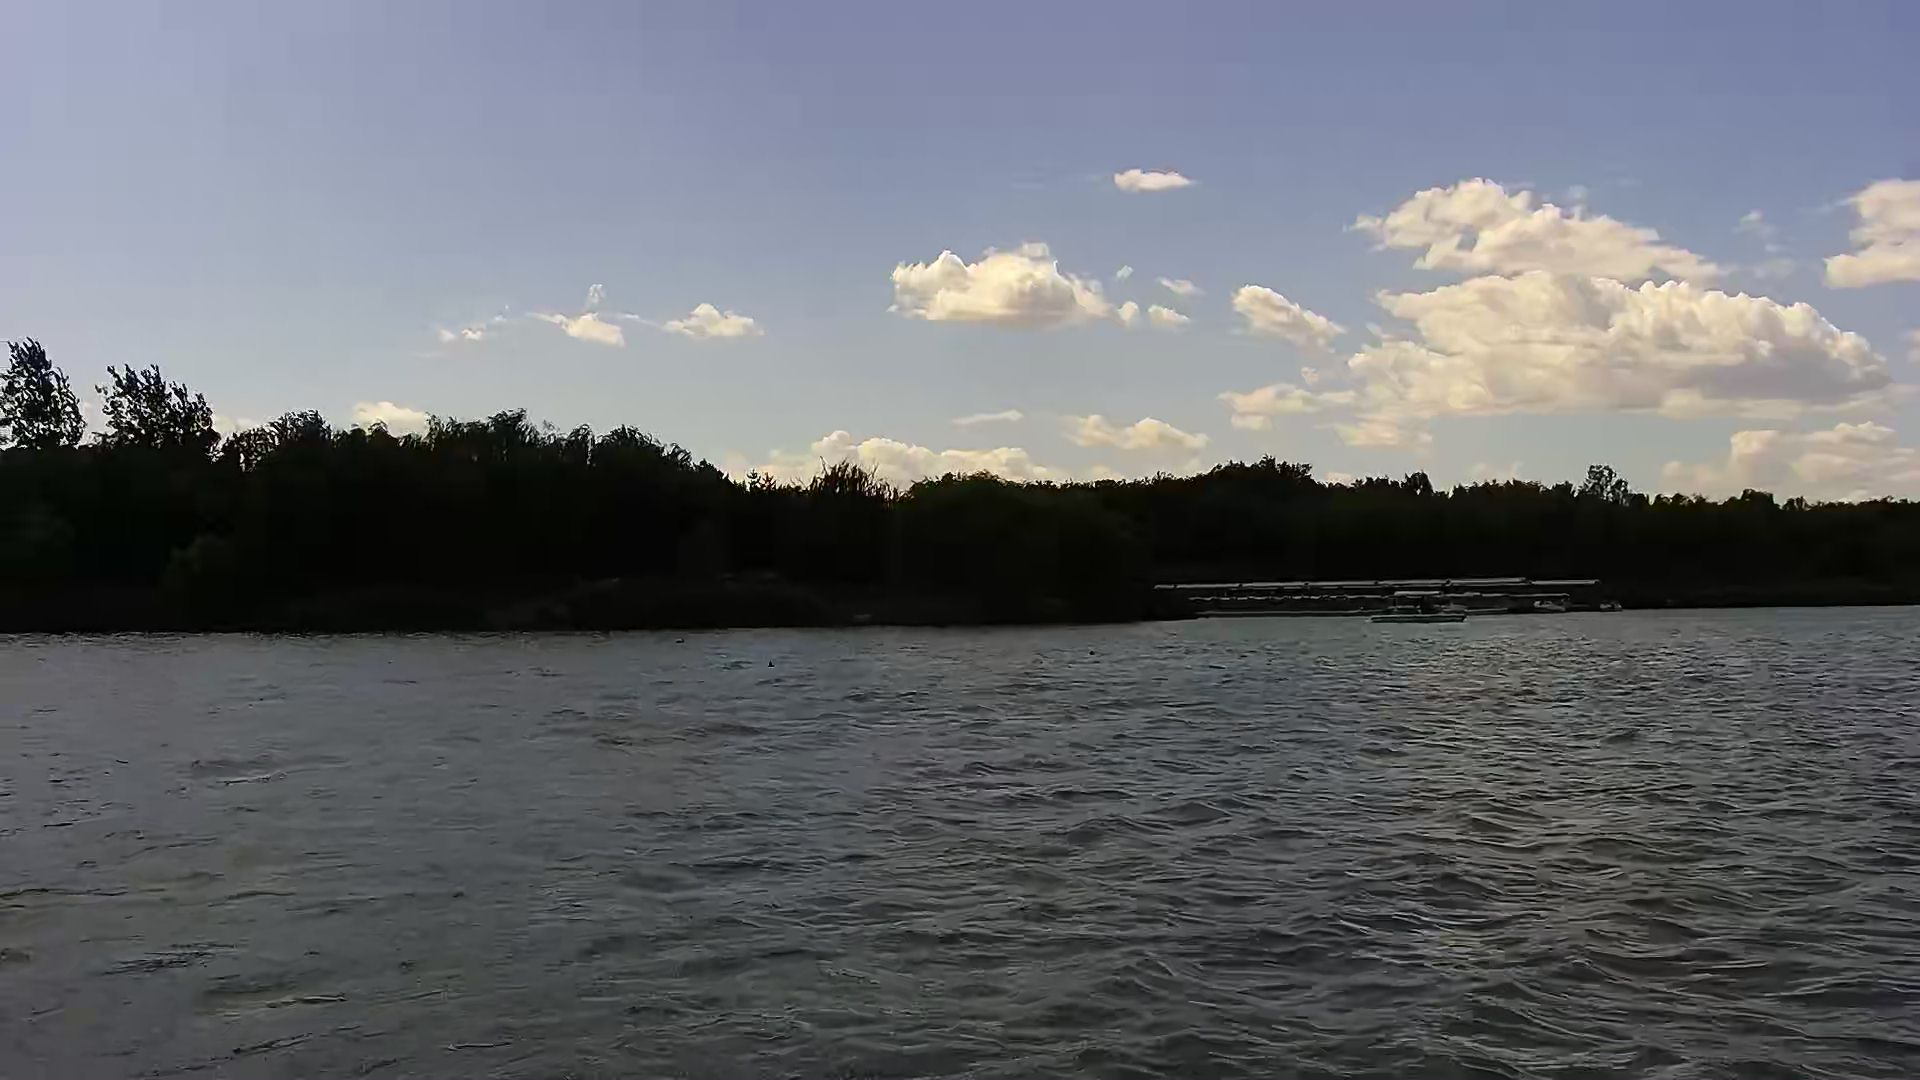boat: (1365, 587, 1472, 629)
harbor: (1145, 578, 1618, 621)
